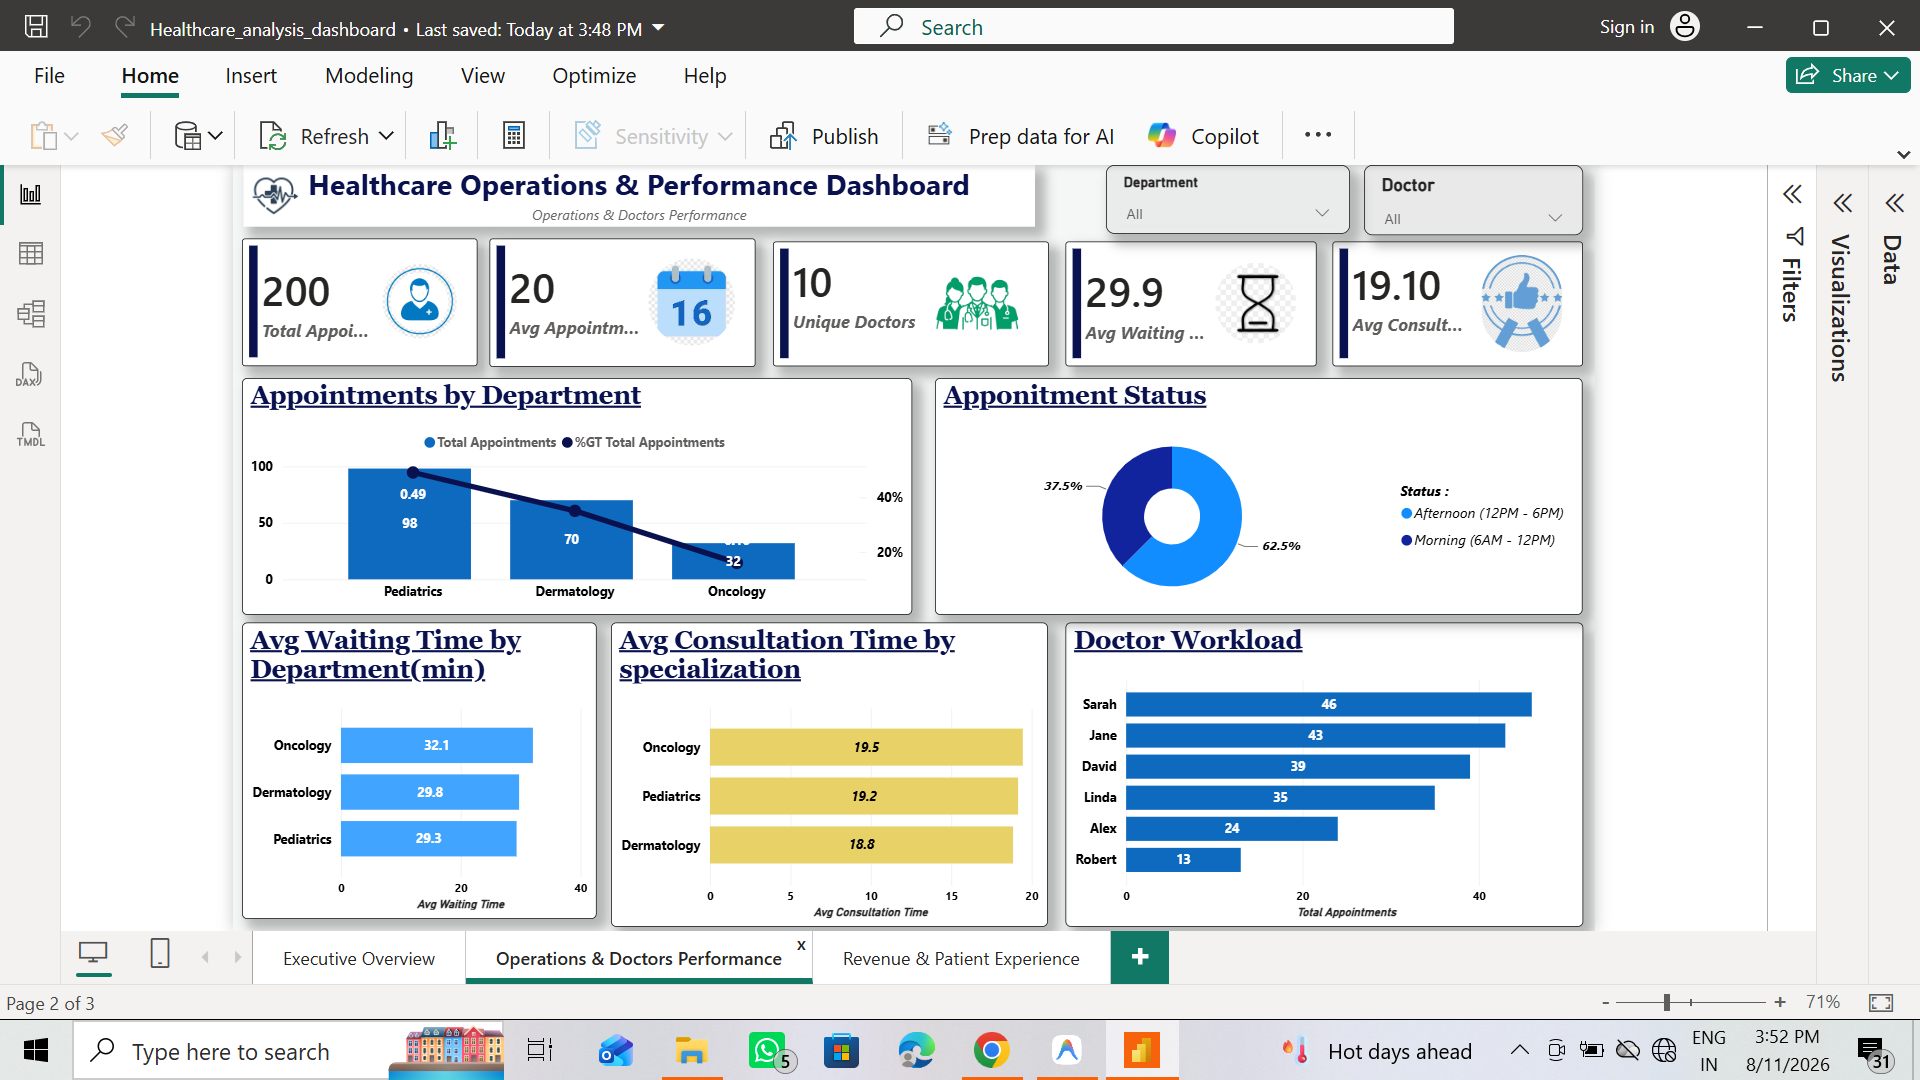

The page's visual inventory and layout, read from the dashboard file:
{"tool":"powerbi","page":{"name":"Operations & Doctors Performance","canvas":[1280,720],"ordinal":1},"visuals":[{"type":"textbox","title":"Healthcare Operations & Performance Dashboard","box":[9.4,0,744,57.8],"z":0},{"type":"image","box":[0,0,76.6,57.8],"z":1000},{"type":"cardVisual","fields":{"Data":["All measures.Total Appointments"]},"box":[8.5,69.1,221.4,119.8],"z":2000},{"type":"cardVisual","fields":{"Data":["All measures.Avg Appointments / Doctor"]},"box":[240.7,68.8,250.1,120.4],"z":3000},{"type":"cardVisual","fields":{"Data":["All measures.Unique Doctors"]},"box":[508,71.9,259.5,117.2],"z":4000},{"type":"cardVisual","fields":{"Data":["All measures.Avg Waiting Time"]},"box":[783.1,71.9,236,117.2],"z":5000},{"type":"cardVisual","fields":{"Data":["All measures.Avg Consultation Time"]},"box":[1033.5,71.9,235.5,117],"z":6000},{"type":"slicer","fields":{"Values":["doctors.first_name"]},"box":[1063.1,0,205.9,66.3],"z":7000},{"type":"slicer","fields":{"Values":["doctors.specialization"]},"box":[820.9,0,229.3,64.7],"z":8000},{"type":"lineStackedColumnComboChart","title":"Appointments by Department","fields":{"Category":["doctors.specialization"],"Y2":["All measures.Total Appointments"],"Y":["All measures.Total Appointments1"]},"box":[9.1,199.9,629.9,222.6],"z":9000},{"type":"clusteredBarChart","title":"Doctor Workload","fields":{"Category":["doctors.first_name"],"Y":["All measures.Total Appointments"]},"box":[782.5,430,486.4,286.2],"z":10000},{"type":"donutChart","title":"Apponitment Status","fields":{"Category":["appointments.Time Slot"],"Y":["All measures.Total Appointments"]},"box":[660.2,199.9,608.7,222.6],"z":11000},{"type":"clusteredBarChart","title":"Avg Waiting Time by Department(min)","fields":{"Category":["doctors.specialization"],"Y":["All measures.Avg Waiting Time"]},"box":[9.1,430,333.1,278.6],"z":12000},{"type":"clusteredBarChart","fields":{"Category":["doctors.specialization"],"Y":["All measures.Avg Consultation Time"]},"box":[355.8,430,410.3,286.2],"z":13000}]}

Visuals, with their boxes on the page's 1280x720 design canvas (x1, y1, x2, y2). These are canvas units, not pixel positions in the 1920x1080 screenshot, which may show the page scaled, cropped or inside an application window:
"Healthcare Operations & Performance Dashboard" textbox: select_region(9, 0, 753, 58)
image: select_region(0, 0, 77, 58)
cardVisual - All measures.Total Appointments: select_region(8, 69, 230, 189)
cardVisual - All measures.Avg Appointments / Doctor: select_region(241, 69, 491, 189)
cardVisual - All measures.Unique Doctors: select_region(508, 72, 768, 189)
cardVisual - All measures.Avg Waiting Time: select_region(783, 72, 1019, 189)
cardVisual - All measures.Avg Consultation Time: select_region(1034, 72, 1269, 189)
slicer - doctors.first_name: select_region(1063, 0, 1269, 66)
slicer - doctors.specialization: select_region(821, 0, 1050, 65)
"Appointments by Department" lineStackedColumnComboChart: select_region(9, 200, 639, 422)
"Doctor Workload" clusteredBarChart: select_region(782, 430, 1269, 716)
"Apponitment Status" donutChart: select_region(660, 200, 1269, 422)
"Avg Waiting Time by Department(min)" clusteredBarChart: select_region(9, 430, 342, 709)
clusteredBarChart - doctors.specialization x All measures.Avg Consultation Time: select_region(356, 430, 766, 716)
